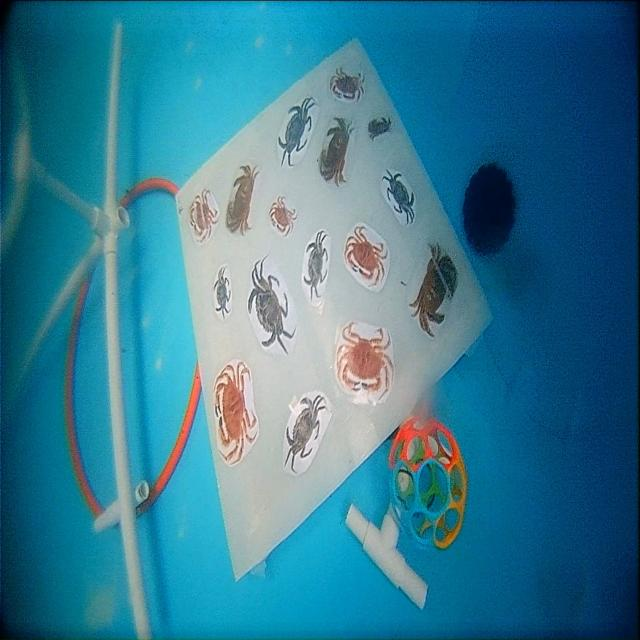GreenCrab: (285, 393, 327, 471), (383, 169, 414, 224), (215, 267, 230, 319)
